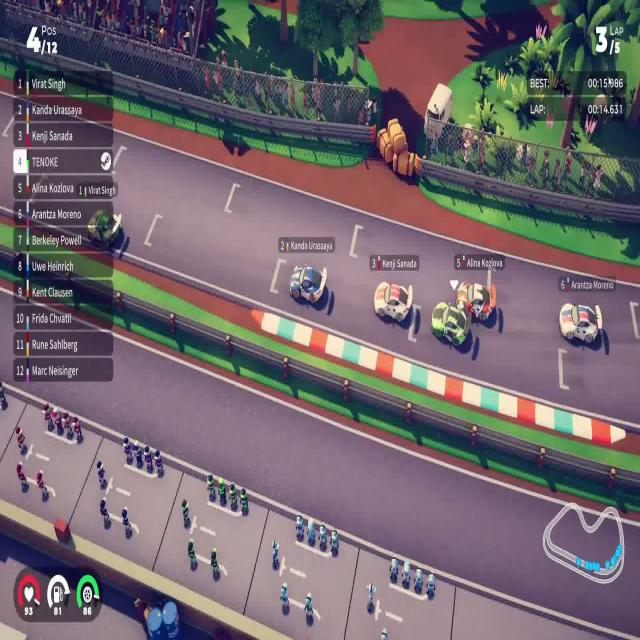car: (430, 300, 471, 348), (558, 301, 600, 346), (373, 279, 413, 324), (455, 279, 496, 322), (288, 263, 328, 305), (86, 207, 123, 249)
